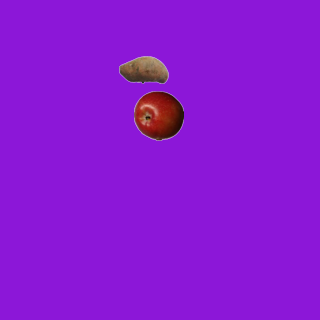Apple Braeburn: (133, 90, 183, 140)
Potato Sweet: (118, 44, 168, 94)
